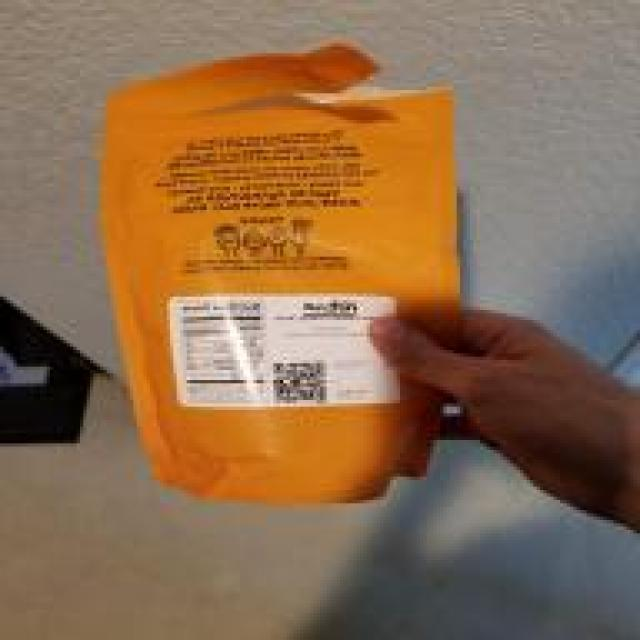QR_CODE: (260, 350, 333, 412)
